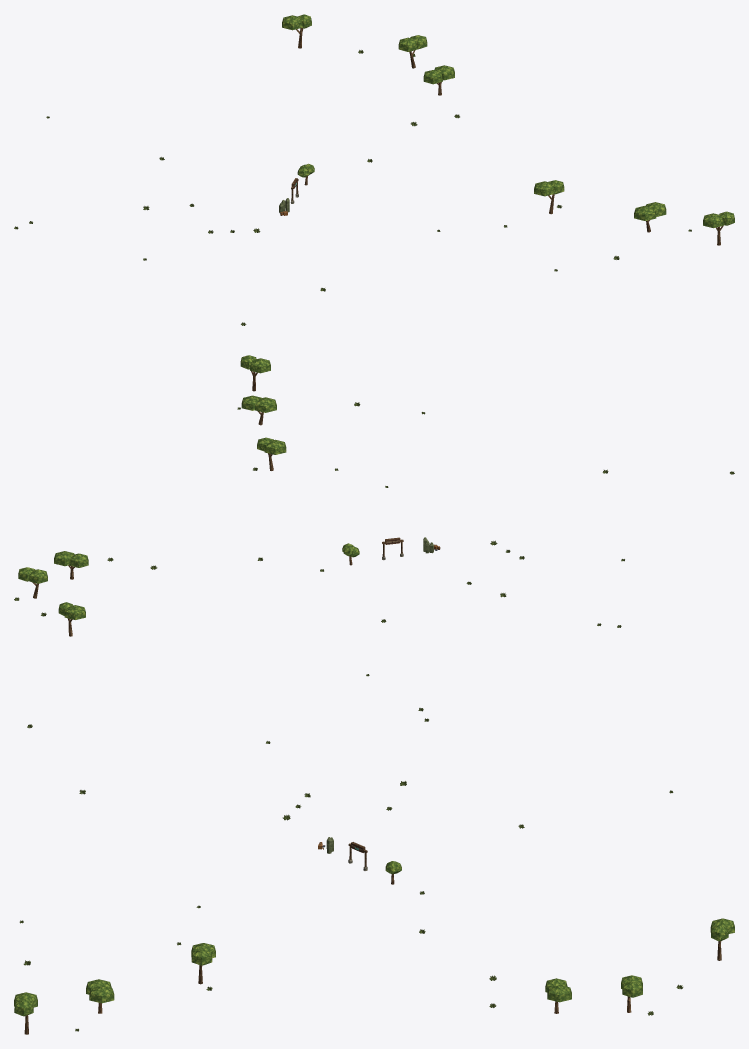
File: FieldCell_3_4.fbx
3 views of the same model, one above another, from view 1: azimuth 30°, elevation 25°; view 2: azimuth 150°, elevation 25°; view 3: azimuth 270°, elevation 25° (orthographic). The views are drawn at different scales.
Parts seen in each view (by area): view 1: FieldCell_3_4; view 2: FieldCell_3_4; view 3: FieldCell_3_4, FieldLeaves_3_4.
Part boxes in pixels (left/top/right/bottom): FieldCell_3_4: left=279, top=14, right=734, bottom=245; FieldCell_3_4: left=18, top=355, right=440, bottom=636; FieldCell_3_4: left=14, top=837, right=734, bottom=1034; FieldLeaves_3_4: left=19, top=708, right=683, bottom=1031.
Bounding box in the file's own units: 12673 × 986 × 12500.
